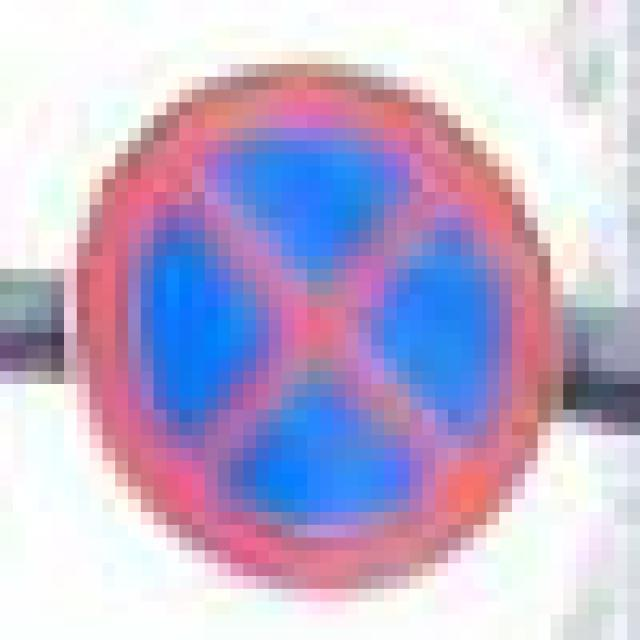no stopping or standing: (67, 66, 570, 593)
